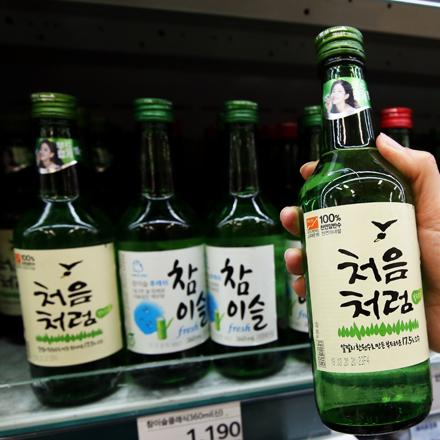soju: (9, 86, 426, 388), (291, 26, 437, 431)
